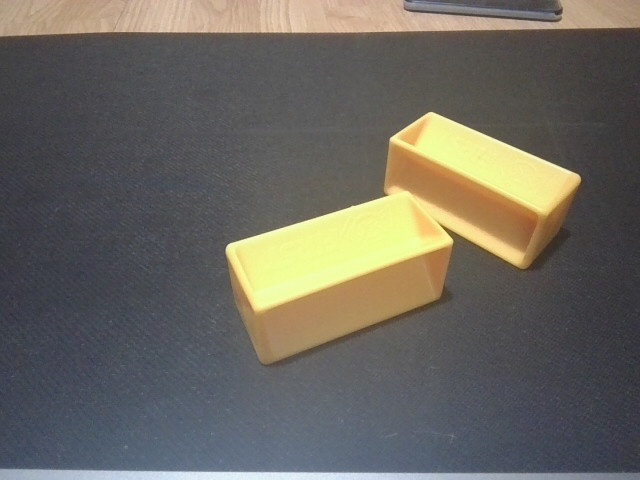YellowSample: (220, 186, 467, 370), (380, 108, 585, 274)
